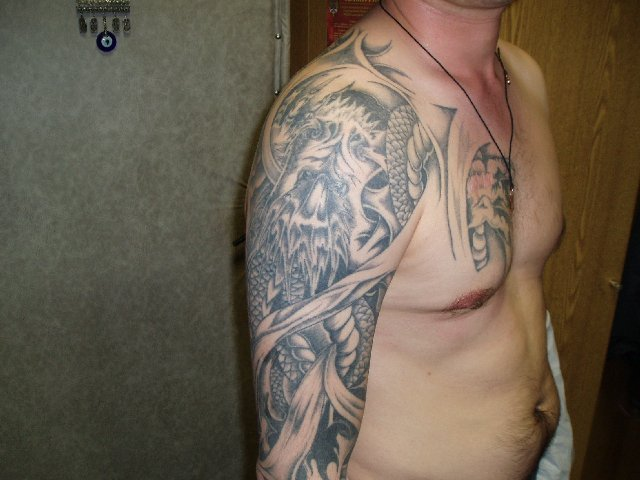tatu6_drakon: (216, 20, 462, 480)
